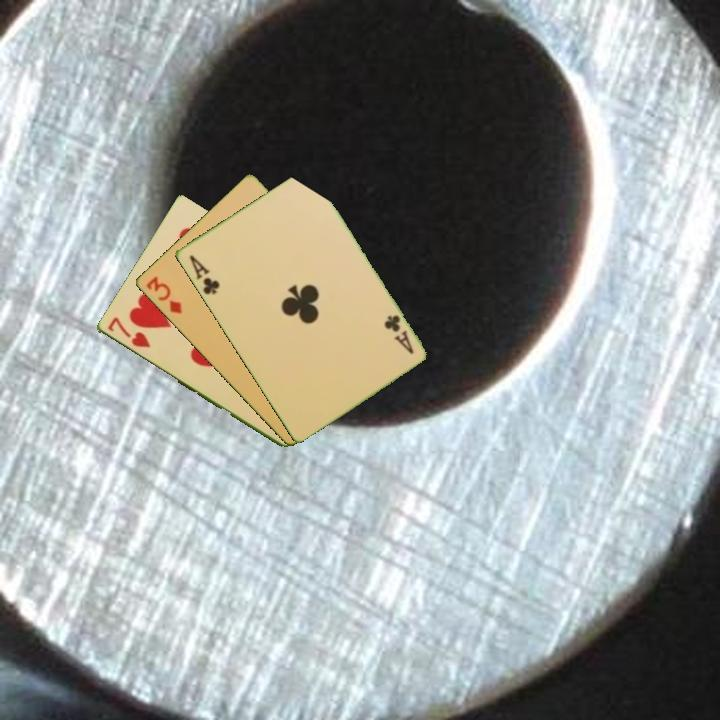3d: (142, 273, 185, 317)
7h: (104, 313, 153, 351)
Ac: (185, 251, 222, 298), (380, 311, 416, 357)
